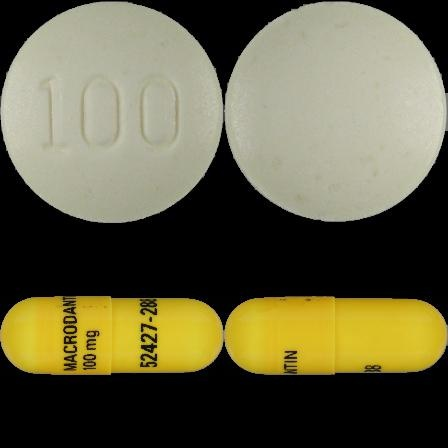43063-396: (0, 0, 224, 224)
